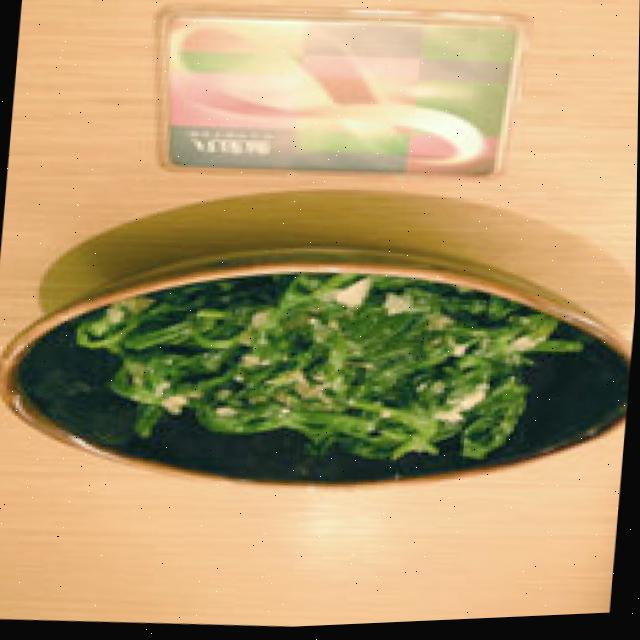蔬菜料理: (0, 223, 606, 529)
